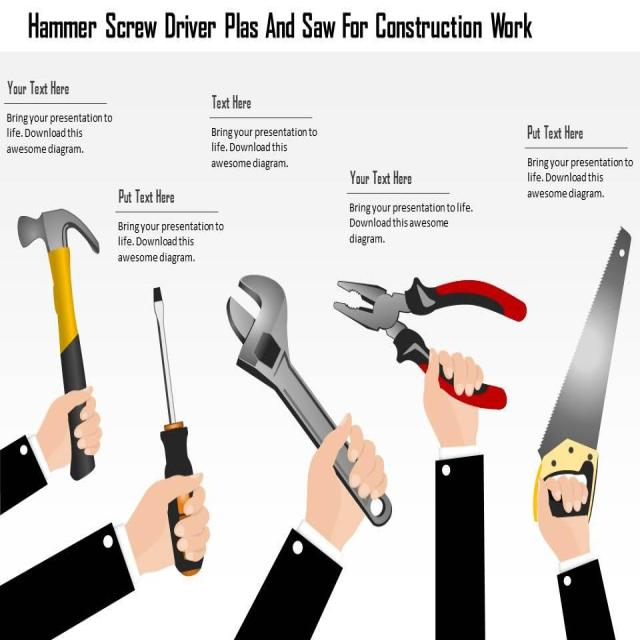Screwdriver: (154, 287, 204, 574)
